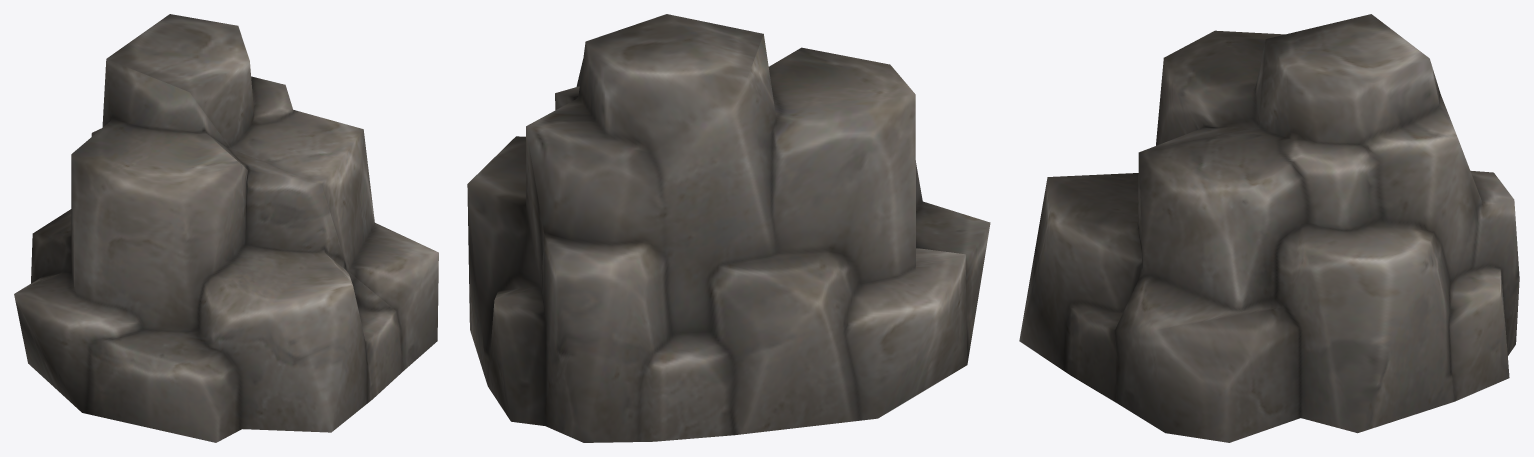
Rendered from Rock04.FBX.
3 renders of one model, left to right at view 1: azimuth 30°, elevation 25°; view 2: azimuth 150°, elevation 25°; view 3: azimuth 270°, elevation 25°, orthographic. The views are drawn at different scales.
Parts seen in each view (by area): view 1: Rock04; view 2: Rock04; view 3: Rock04.
Part boxes in pixels (<box>): Rock04: <box>14,14,438,442</box>; Rock04: <box>467,14,990,442</box>; Rock04: <box>1019,14,1519,442</box>.
Bounding box in the file's own units: 4.89 × 5.05 × 3.31.
